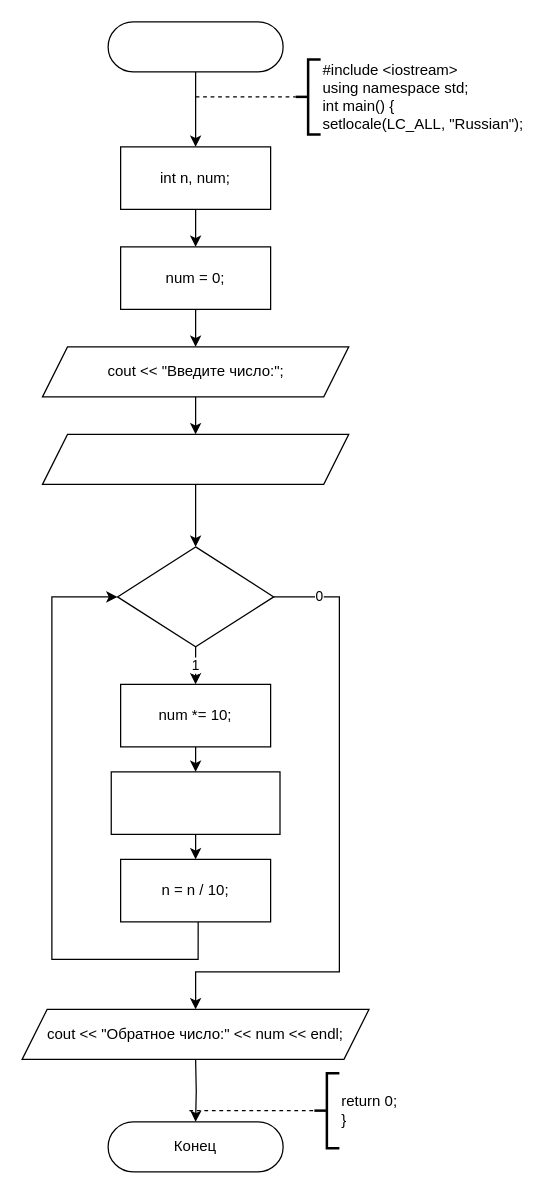
Image size: 546x1194. Some labels were removed from this diagram. The centre of each missing label's shape, as x and y in pixels:
cin >> n;: (x=195, y=458)
num = num + (n % 10);: (x=195, y=802)
while (n > 0): (x=195, y=596)
Запуск: (x=195, y=46)
